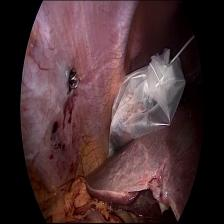Specimen Bag: (102, 43, 186, 166)
